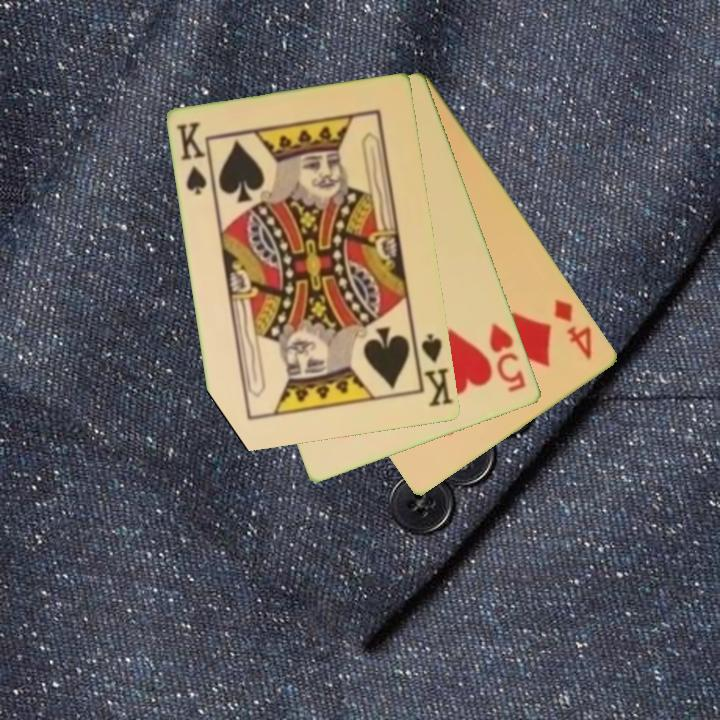4d: (551, 295, 596, 363)
5h: (486, 320, 529, 396)
Ks: (410, 330, 456, 410), (173, 119, 211, 198)
